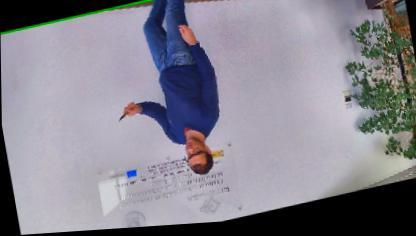knife: (113, 102, 137, 125)
